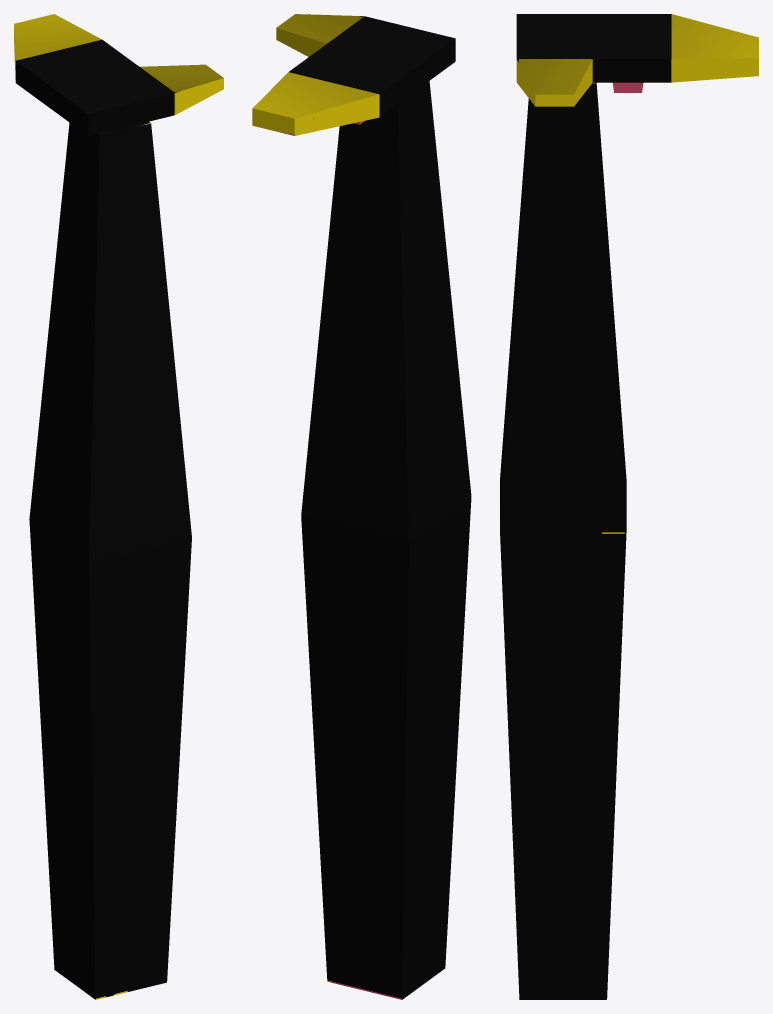
File: gemlord_hand.fbx
The picture shows the model from 3 angles, left to right: view 1: azimuth 30°, elevation 25°; view 2: azimuth 150°, elevation 25°; view 3: azimuth 270°, elevation 25°; orthographic projection. The views are drawn at different scales.
Visible parts, largest first — view 1: Cube; view 2: Cube; view 3: Cube.
Boxes of the visible parts, left/top/right/bottom form: Cube: left=14, top=14, right=223, bottom=999; Cube: left=252, top=14, right=471, bottom=999; Cube: left=500, top=14, right=758, bottom=999.
Size of the model in its own units: 77.45 by 434 by 108.
Materials: 1 (1 with a texture image).
